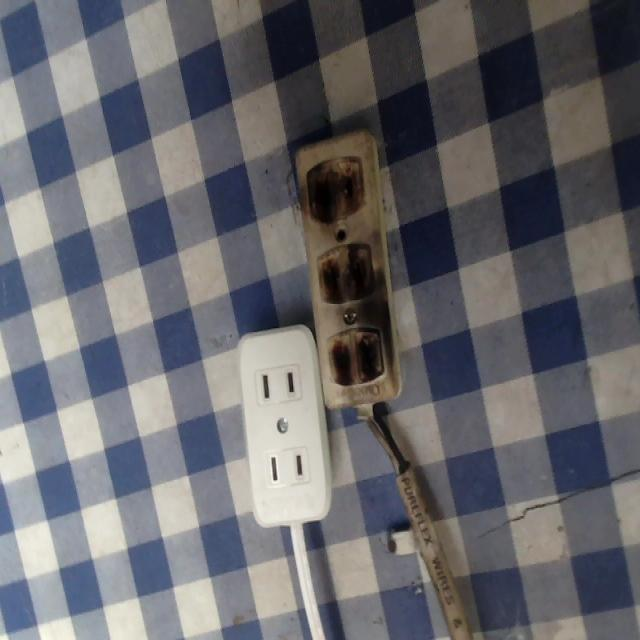-: (311, 237, 380, 308), (300, 152, 368, 220), (323, 324, 388, 388)
